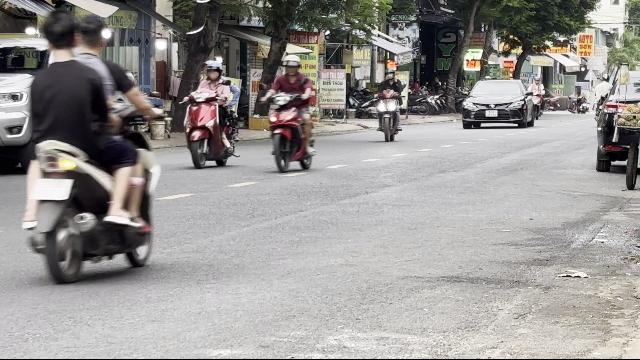helmet: (282, 55, 302, 74), (204, 60, 222, 80)
licenseplate: (33, 180, 73, 200)
motorcyclist: (11, 9, 162, 284), (263, 54, 319, 172), (180, 59, 240, 169)
nohelmet: (40, 10, 78, 58), (74, 12, 106, 54)
